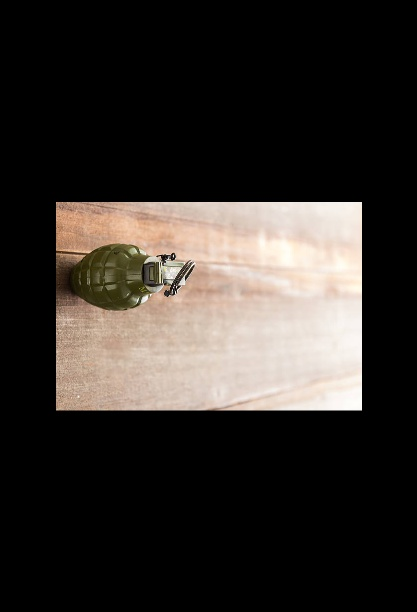e1: (66, 245, 195, 312)
